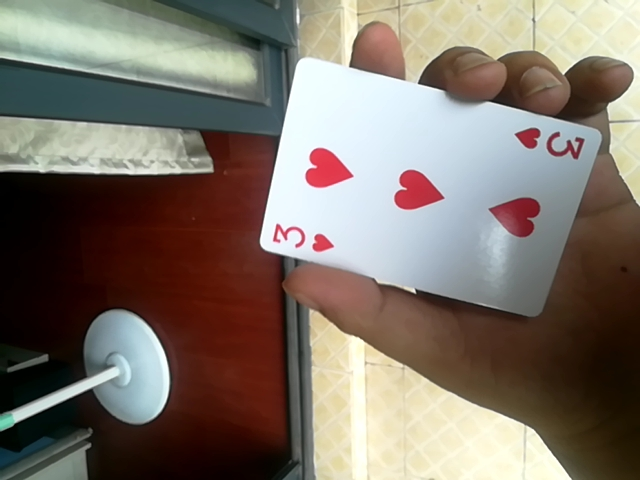hx 3: (255, 61, 603, 323)
